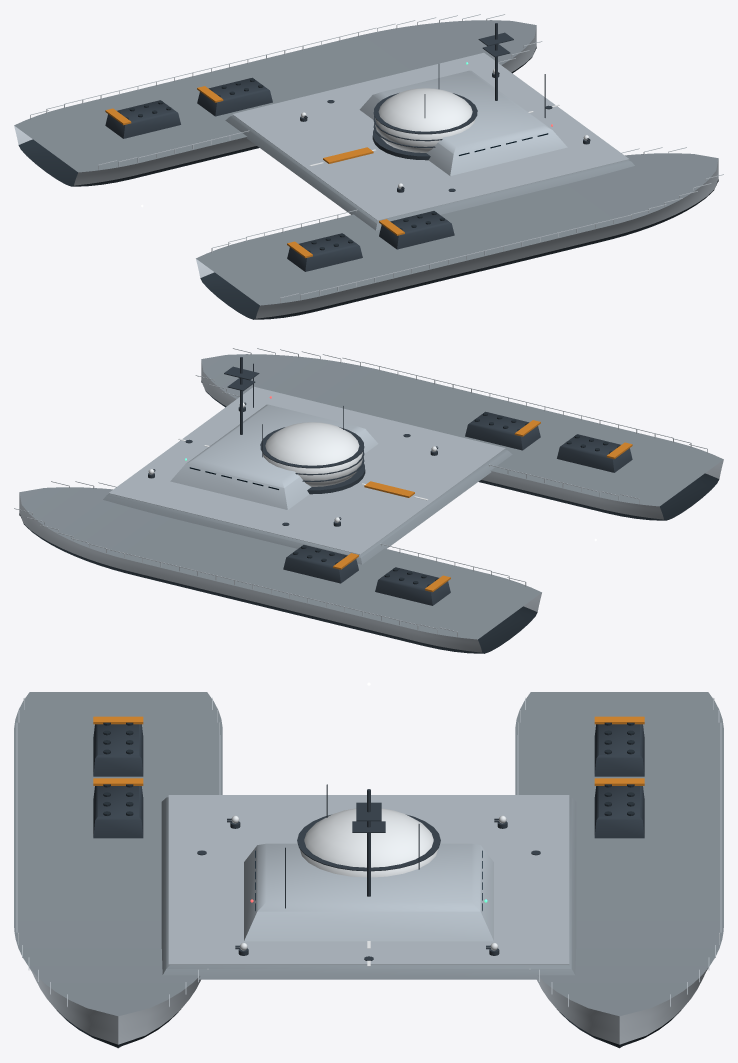
File: ship_escort.glb
3 views of the same model, one above another, from view 1: azimuth 30°, elevation 25°; view 2: azimuth 150°, elevation 25°; view 3: azimuth 270°, elevation 25° (orthographic). The views are drawn at different scales.
Visible parts, largest first — view 1: hull_deck_stbd, hull_deck_port, deck_plate, bridge, hull_stbd, radome, deck, hull_port, hull_under_stbd, rails, hull_under_port, decoy_4_box (+5 smaller); view 2: hull_deck_port, hull_deck_stbd, deck_plate, bridge, hull_port, radome, deck, hull_stbd, hull_under_port, rails, hull_under_stbd, decoy_2_box (+5 smaller); view 3: hull_deck_port, hull_deck_stbd, deck_plate, bridge, deck, radome, hull_port, hull_stbd, decoy_2_box, decoy_4_box, decoy_1_box, decoy_3_box (+3 smaller).
Part boxes in pixels (bbox=[...]): hull_deck_stbd: bbox=[196, 153, 718, 305]; hull_deck_port: bbox=[14, 20, 536, 172]; deck_plate: bbox=[232, 52, 629, 220]; bridge: bbox=[359, 70, 567, 175]; hull_stbd: bbox=[196, 158, 718, 318]; radome: bbox=[374, 88, 475, 152]; deck: bbox=[225, 115, 634, 230]; hull_port: bbox=[14, 27, 536, 185]; hull_under_stbd: bbox=[200, 179, 718, 319]; rails: bbox=[30, 14, 723, 302]; hull_under_port: bbox=[18, 46, 536, 186]; decoy_4_box: bbox=[379, 211, 454, 249]; hull_deck_port: bbox=[19, 487, 541, 639]; hull_deck_stbd: bbox=[201, 354, 723, 506]; deck_plate: bbox=[108, 386, 505, 554]; bridge: bbox=[170, 404, 378, 509]; hull_port: bbox=[19, 492, 541, 652]; radome: bbox=[263, 422, 363, 486]; deck: bbox=[103, 449, 512, 564]; hull_stbd: bbox=[201, 361, 723, 519]; hull_under_port: bbox=[19, 513, 537, 653]; rails: bbox=[14, 348, 707, 636]; hull_under_stbd: bbox=[201, 380, 719, 520]; decoy_2_box: bbox=[283, 545, 358, 583]; hull_deck_port: bbox=[515, 692, 723, 1016]; hull_deck_stbd: bbox=[14, 692, 222, 1016]; deck_plate: bbox=[168, 795, 569, 964]; bridge: bbox=[244, 843, 493, 941]; deck: bbox=[161, 797, 576, 979]; radome: bbox=[300, 808, 437, 877]; hull_port: bbox=[537, 968, 708, 1044]; hull_stbd: bbox=[29, 968, 200, 1044]; decoy_2_box: bbox=[594, 786, 644, 838]; decoy_4_box: bbox=[93, 786, 143, 838]; decoy_1_box: bbox=[594, 724, 644, 776]; decoy_3_box: bbox=[93, 724, 143, 776].
Size of the model in its own units: 1.87 by 0.49 by 1.7.
